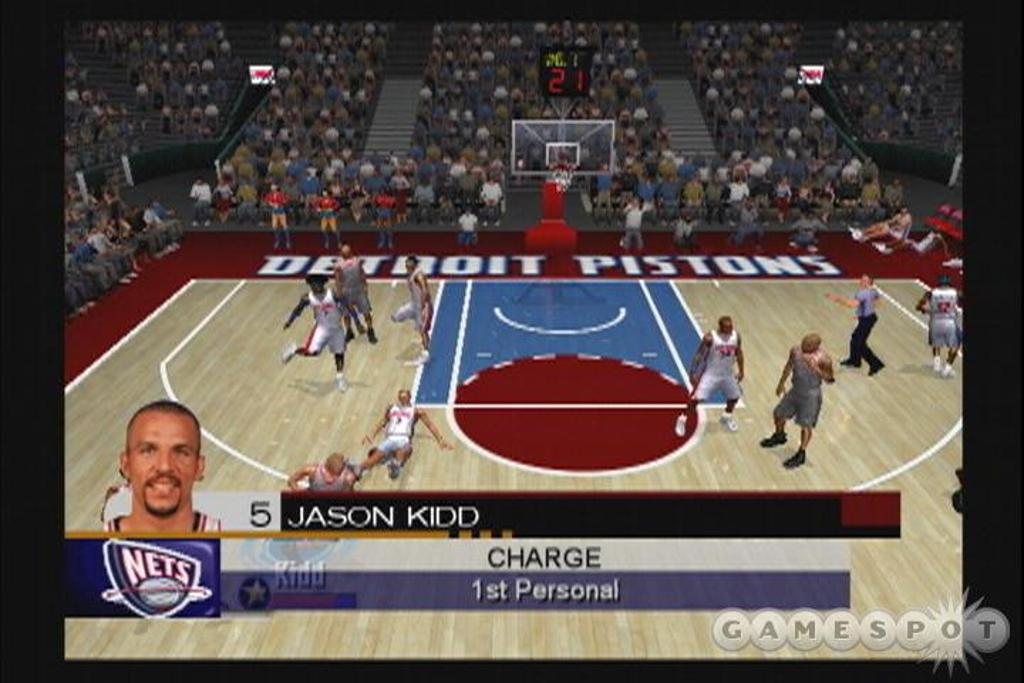face: (128, 412, 198, 514), (803, 338, 814, 352), (326, 471, 338, 483), (723, 321, 733, 333), (406, 262, 414, 273), (400, 394, 408, 404), (861, 277, 868, 288), (311, 282, 318, 292), (333, 262, 340, 271), (343, 249, 350, 257)
